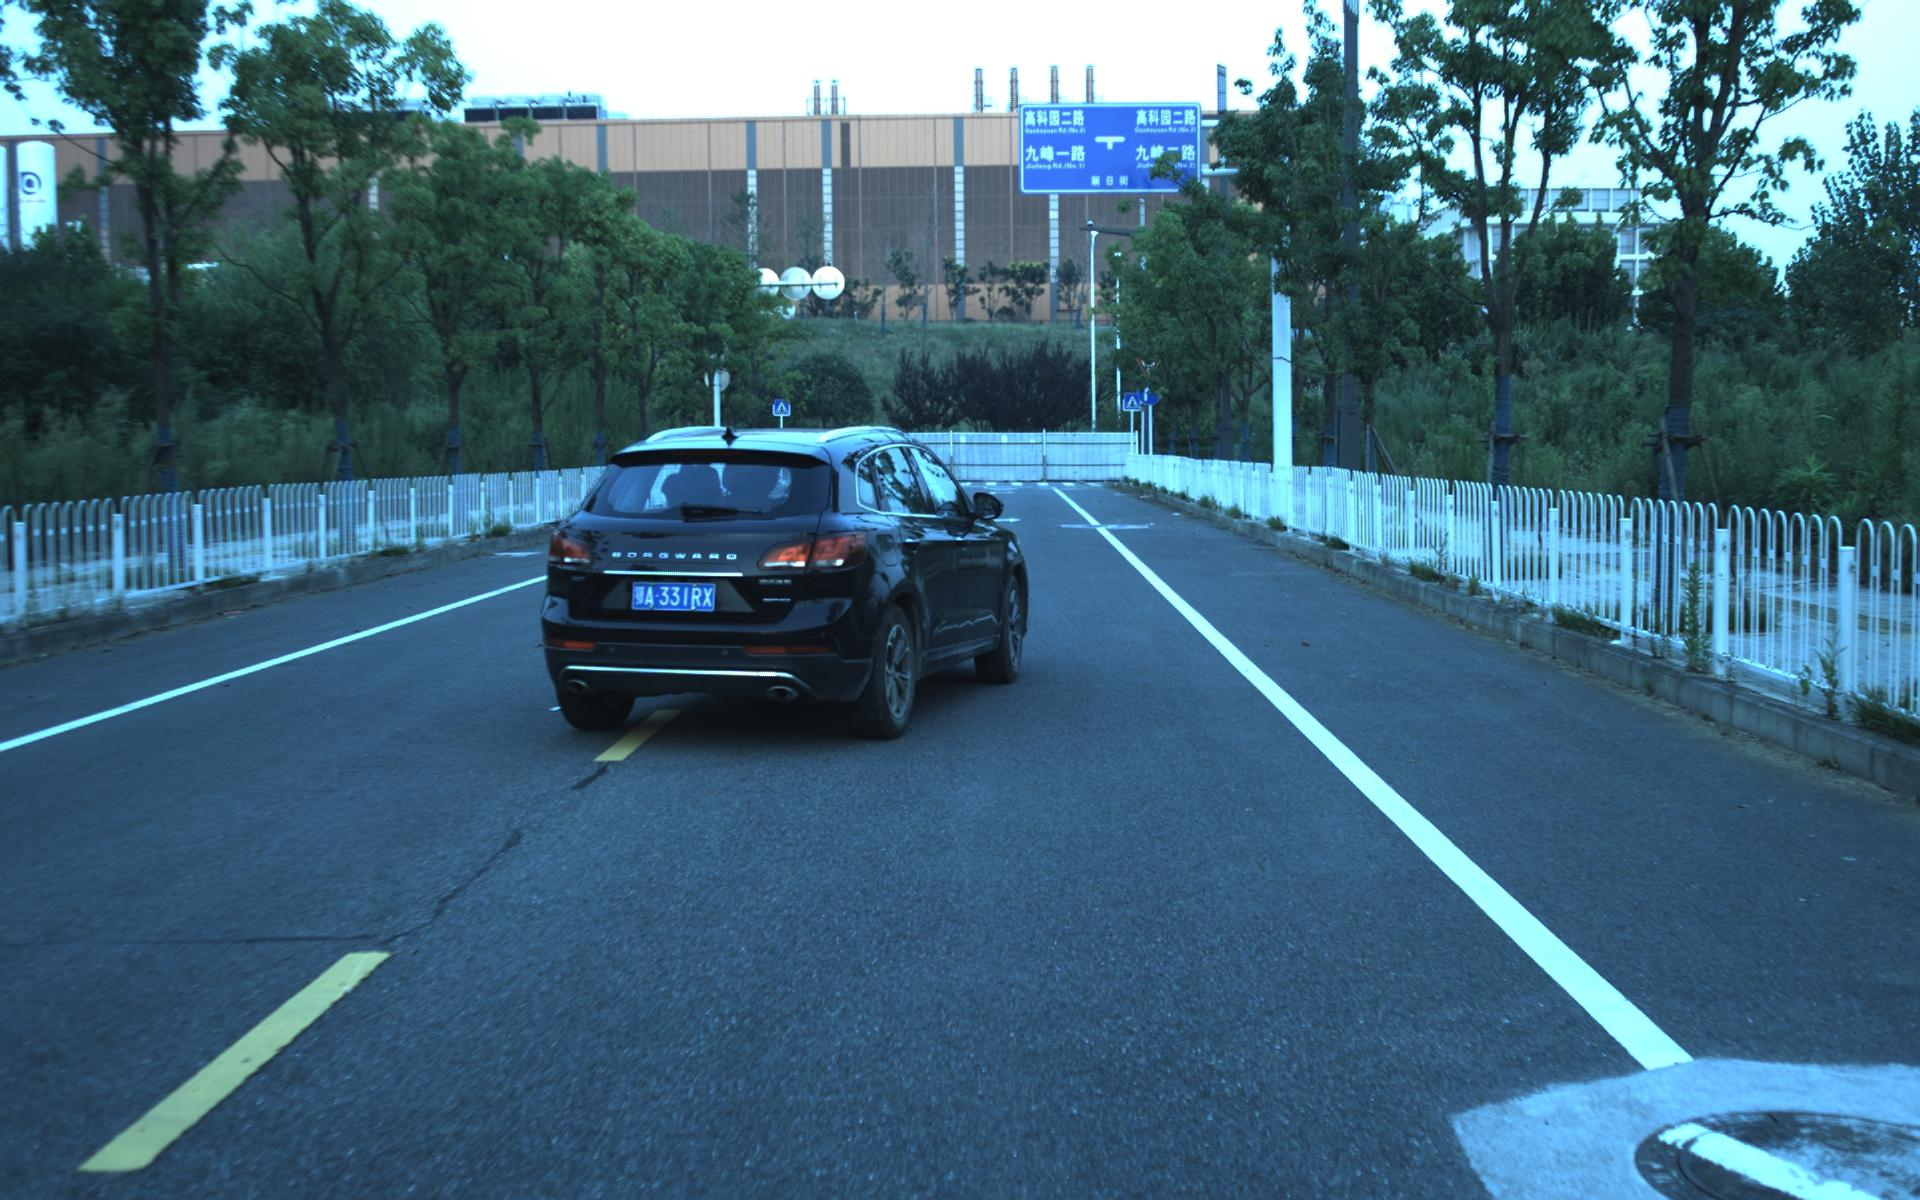Car: (520, 413, 1034, 751)
